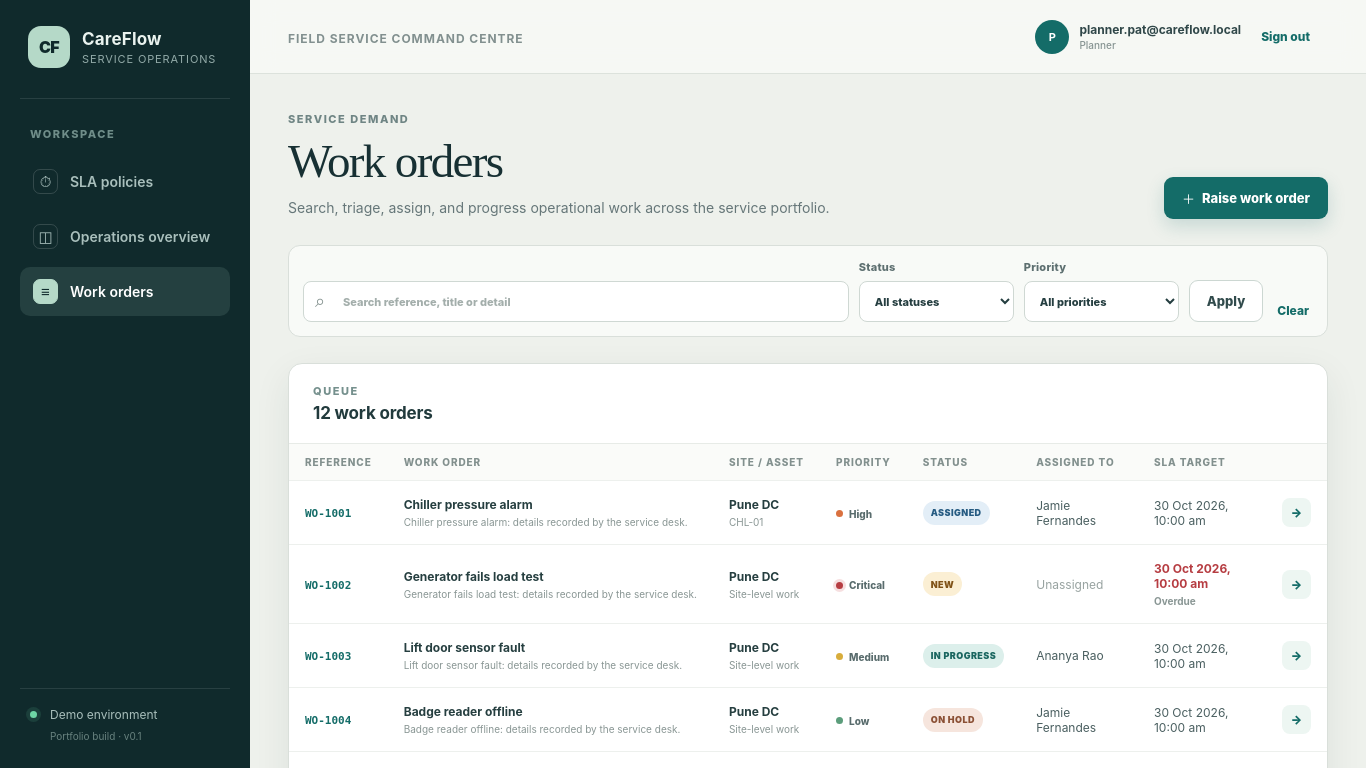
Test: Work orders list (MSW) › clears the filters and restores the full list
Select "CRITICAL" in the dropdown labelled "Priority" at (1101,302), box [1024,281,1179,322]
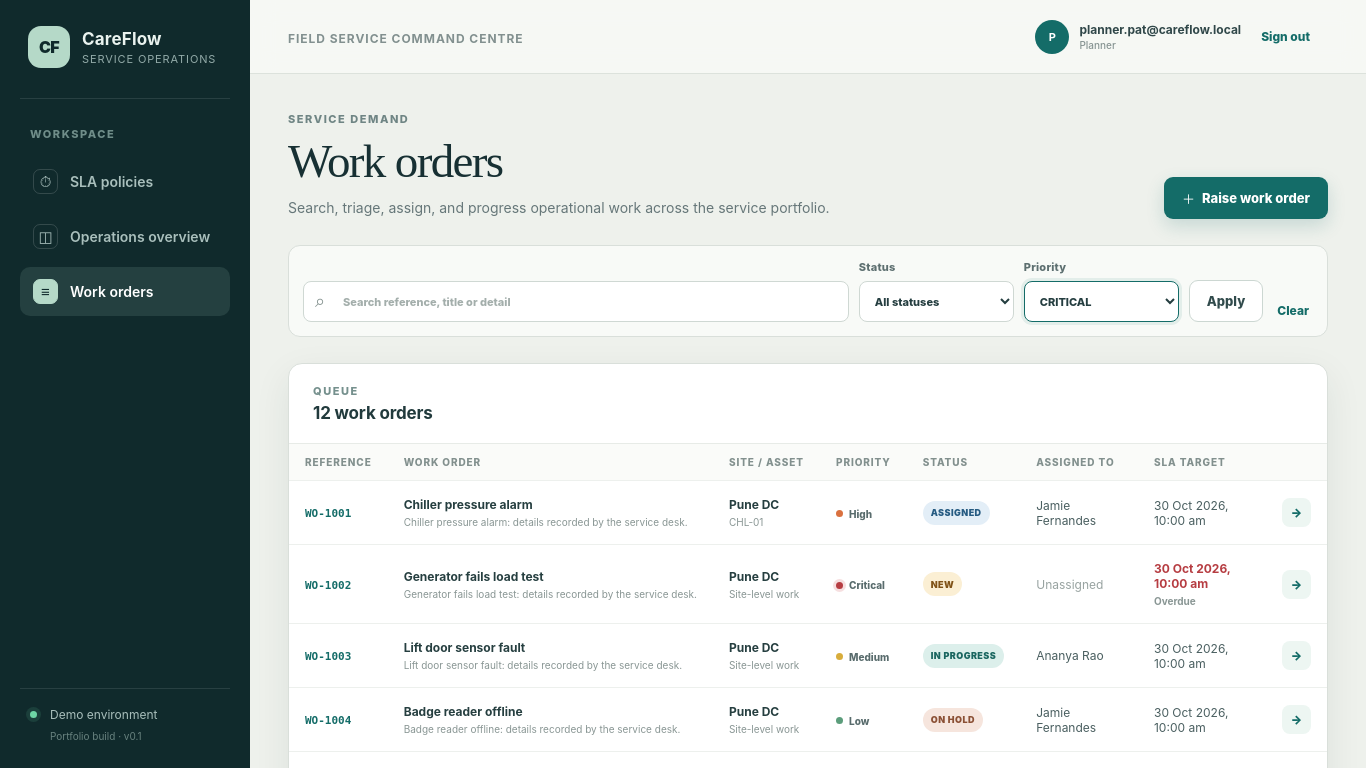
Click the button "Apply" at (1226,301), box [1189,280,1263,322]
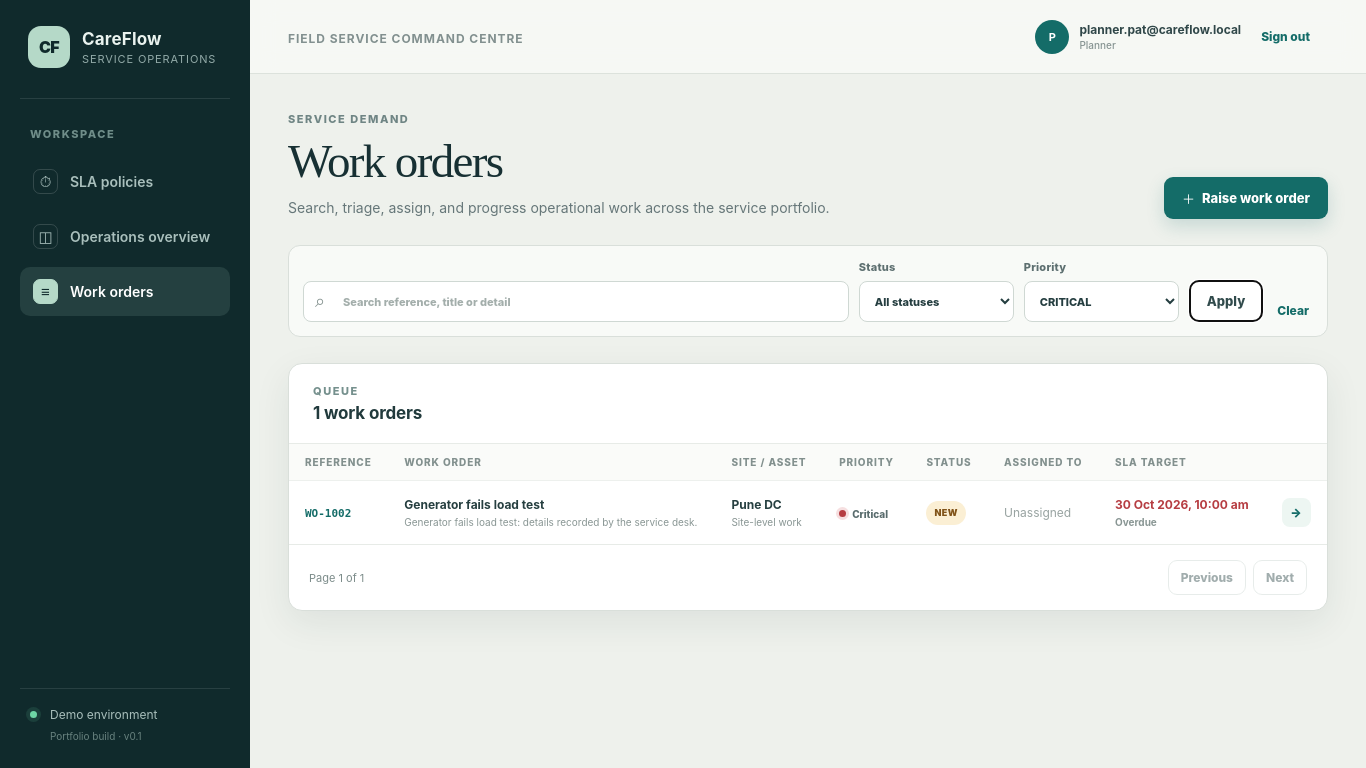
expect the heading "1 work orders" is shown: met, box [313,403,422,423]
Click the button "Clear" at (1293,311), box [1273,299,1313,322]
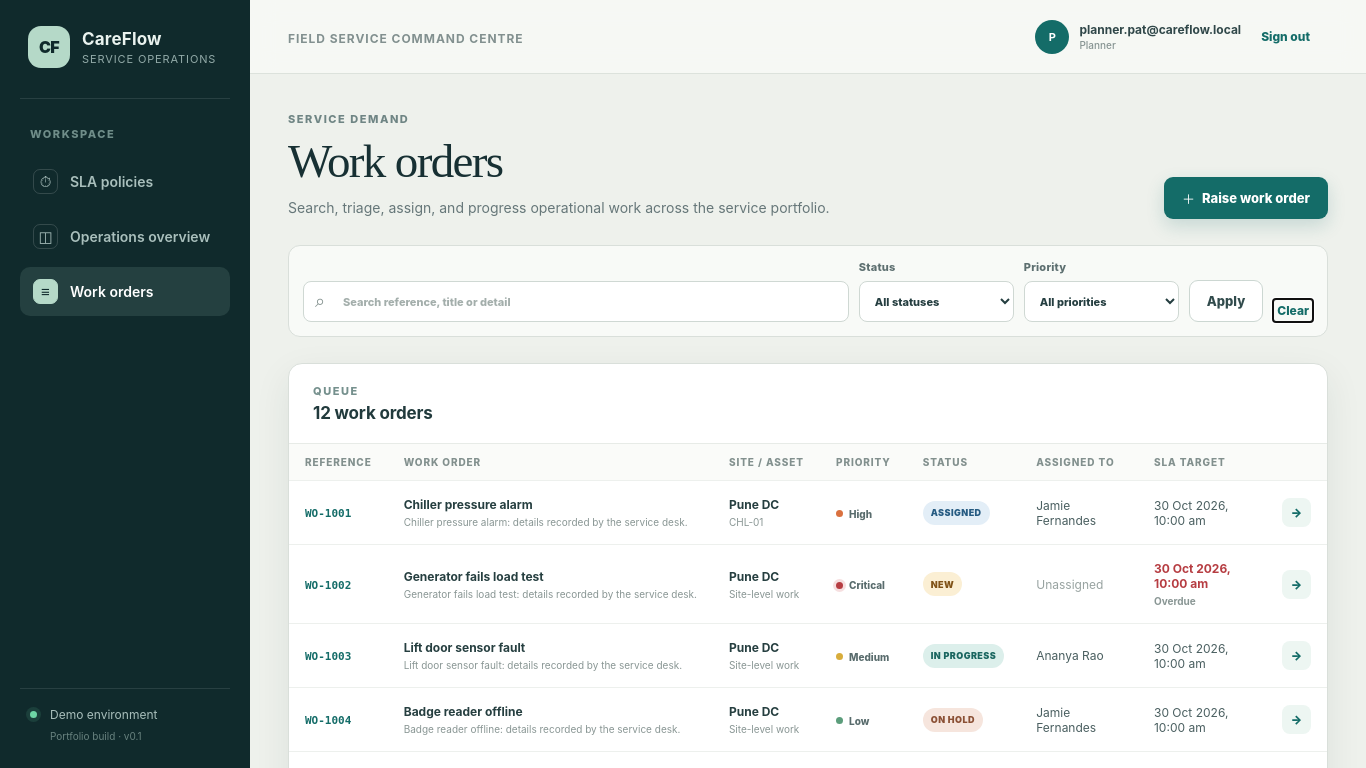
expect the heading "12 work orders" is shown: met, box [313,403,433,423]
